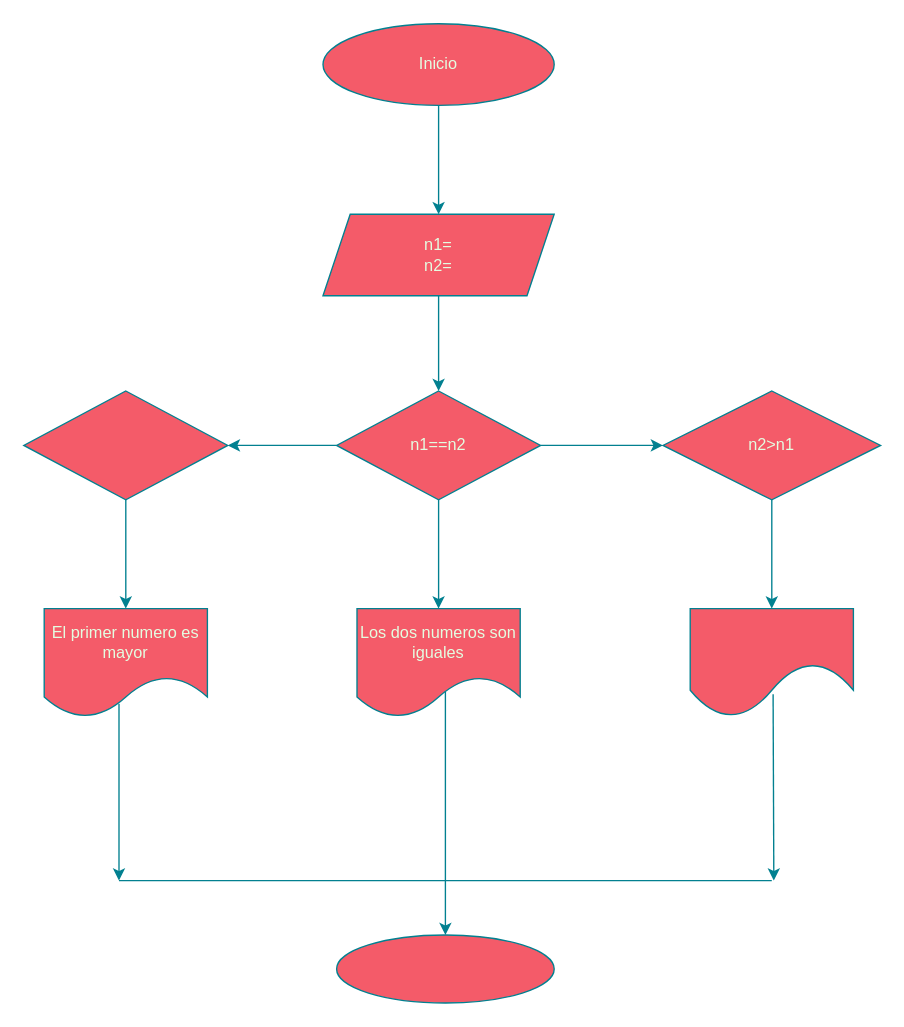
The diagram is 904 pixels wide and 1027 high, and some of its shapes have lost their labels. The shapes that lost their labels are listed below. From the top down, each one's box as (x1, y1, x2, y2) in pixels, then its label:
(22, 390, 228, 500): n1>n2
(689, 607, 853, 717): El segundo numero es mayor
(335, 934, 554, 1003): Fin
